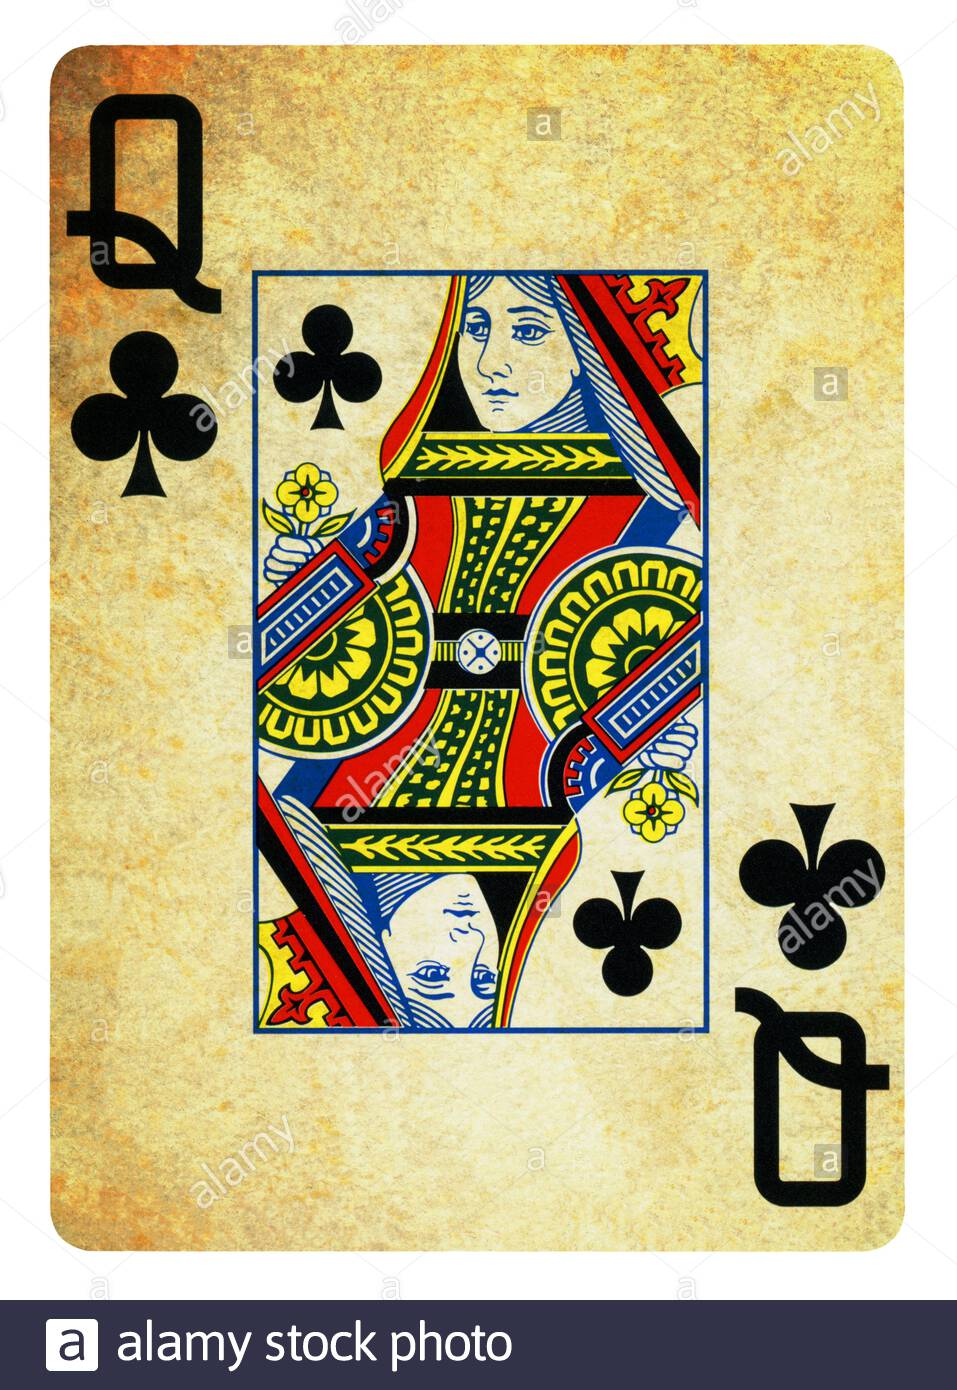queen of clubs: (60, 39, 908, 1253)
